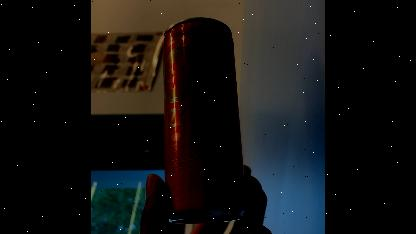Can: (162, 10, 254, 228)
